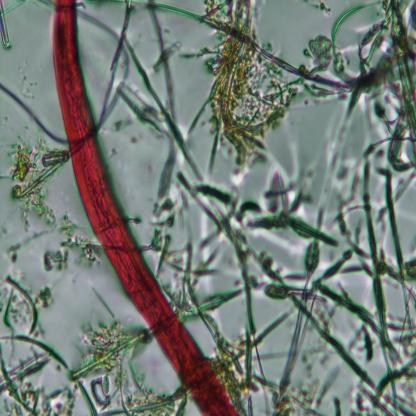Background material: (210, 0, 416, 416), (108, 0, 277, 330), (0, 109, 112, 416), (84, 294, 176, 416), (0, 0, 13, 50)
Cotton: (50, 0, 236, 416)
